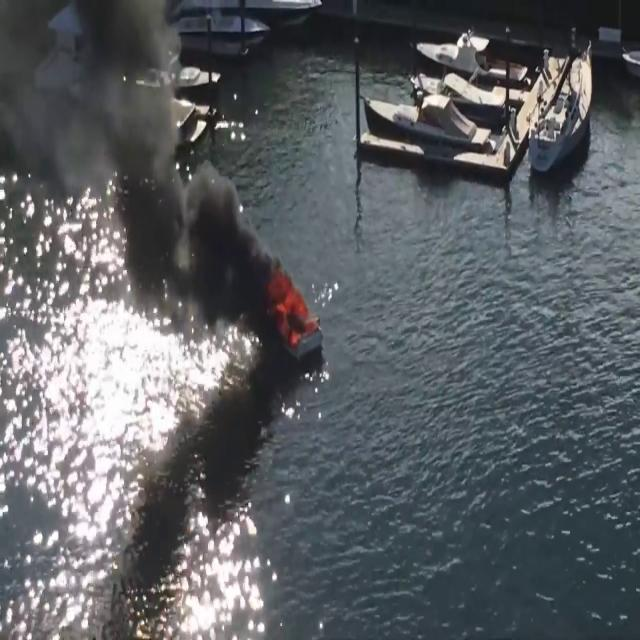Fire: (269, 270, 315, 340)
Smoke: (0, 0, 296, 333)
